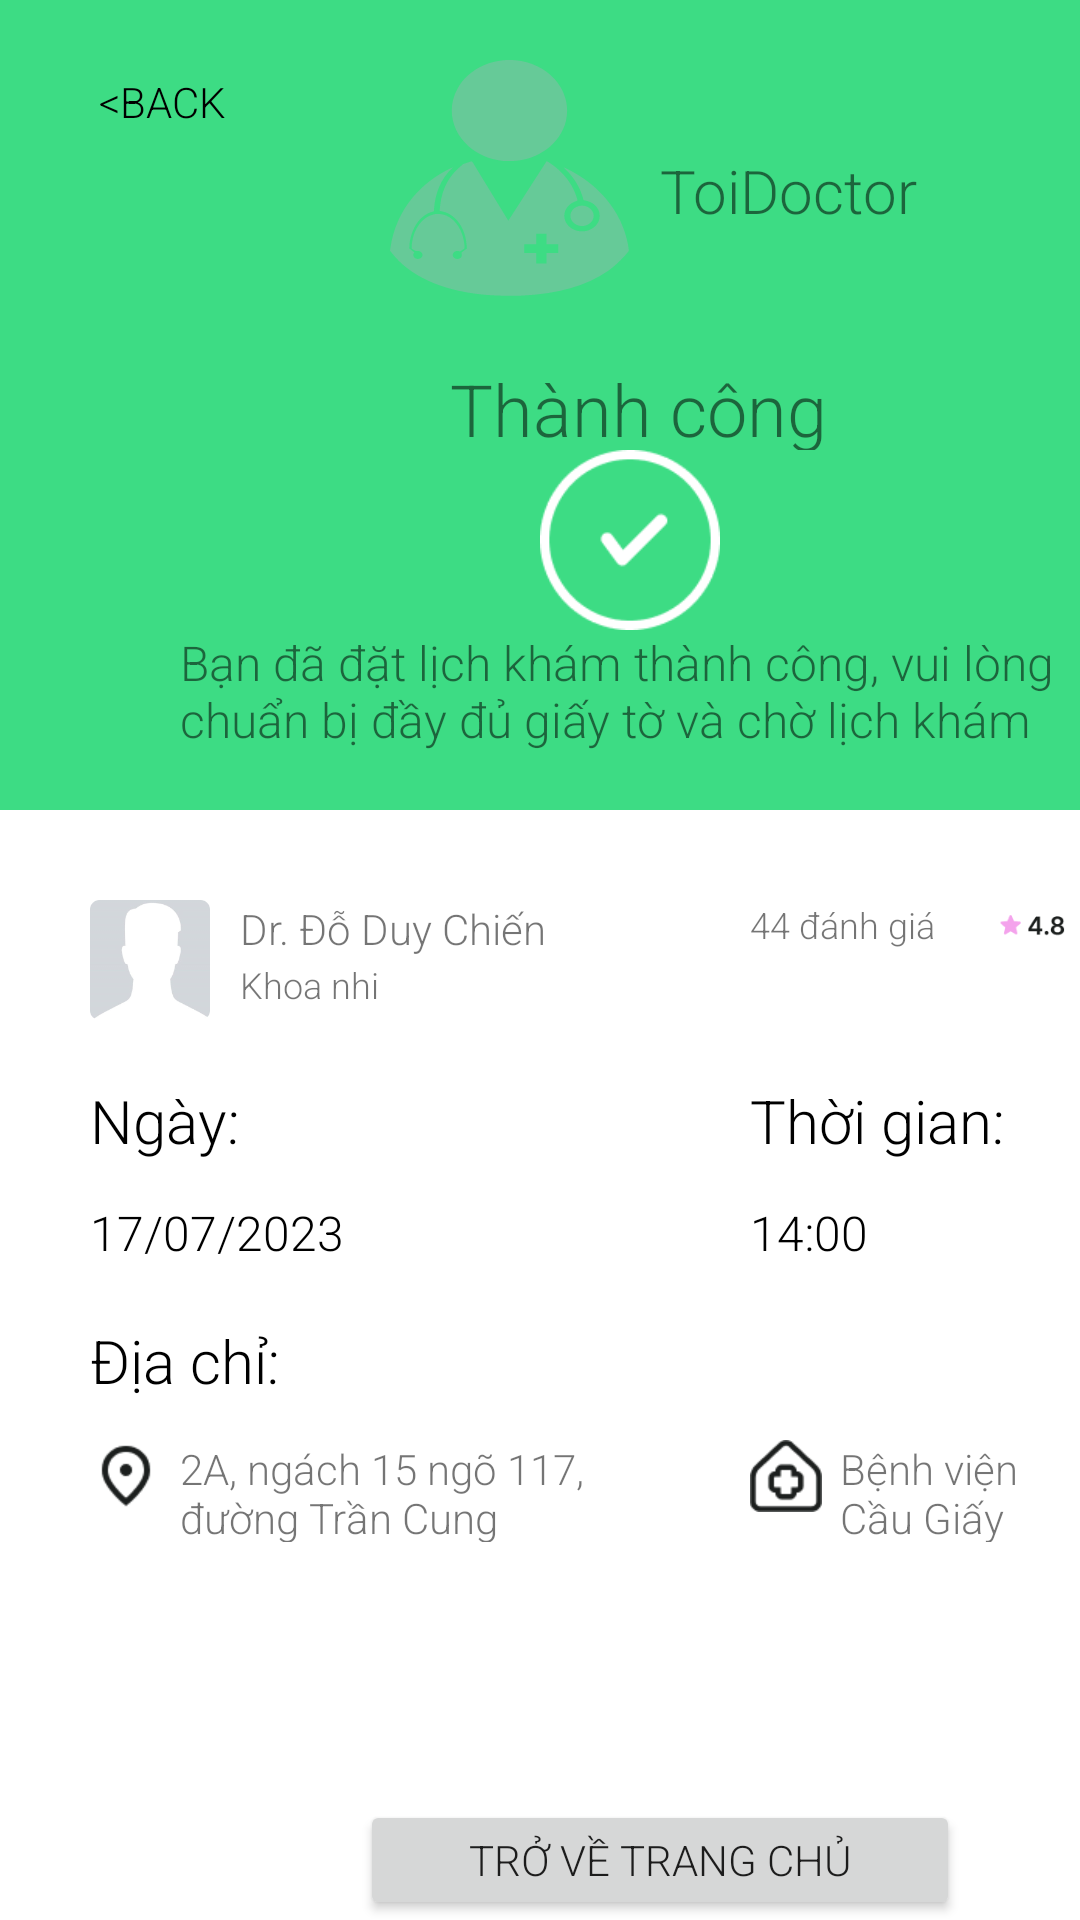

Screen size 1080px x 1920px. Icon name, then its center in pixels as (x=x, y=y):
avt: (x=150, y=959)
hospital: (x=786, y=1476)
location: (x=126, y=1475)
tick: (x=630, y=540)
